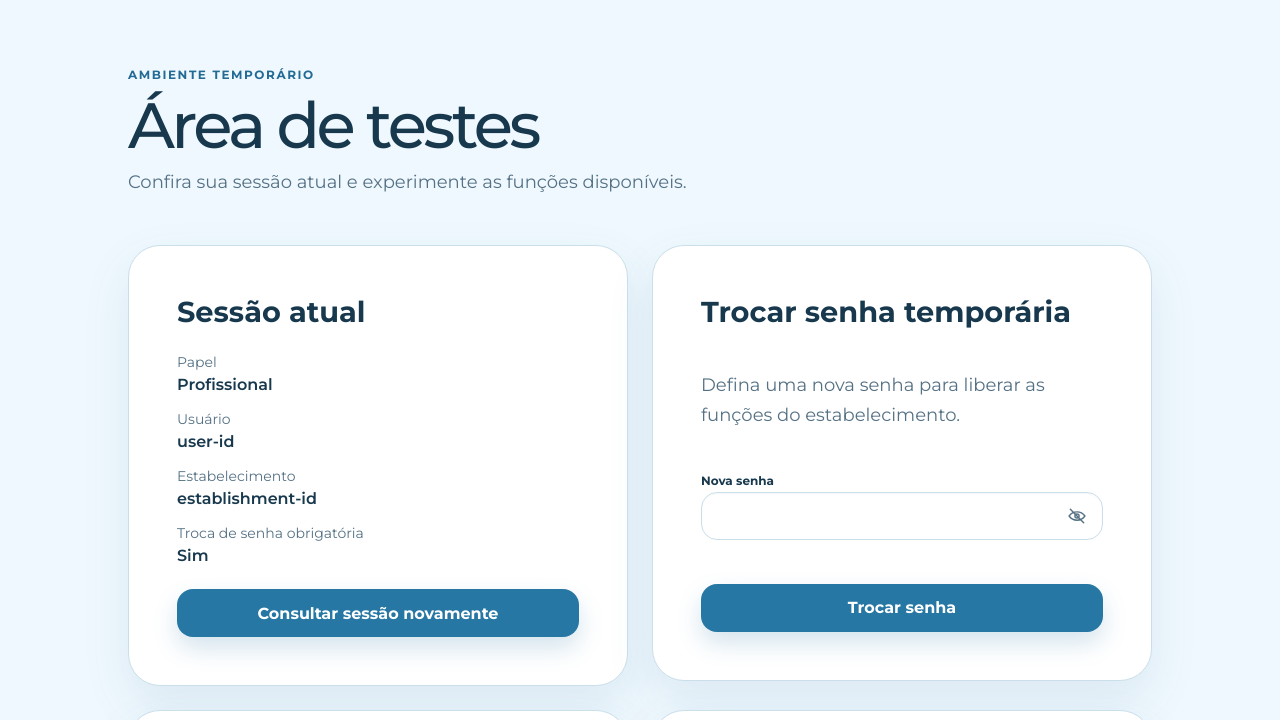
Test case: valida a nova senha curta antes de enviar e foca o campo inválido
Check: the heading "Trocar senha temporária" is shown, box 701,294 -> 1103,330
In the password field labelled "Nova senha": (902, 516) 701,492 -> 1103,540, type "curta"
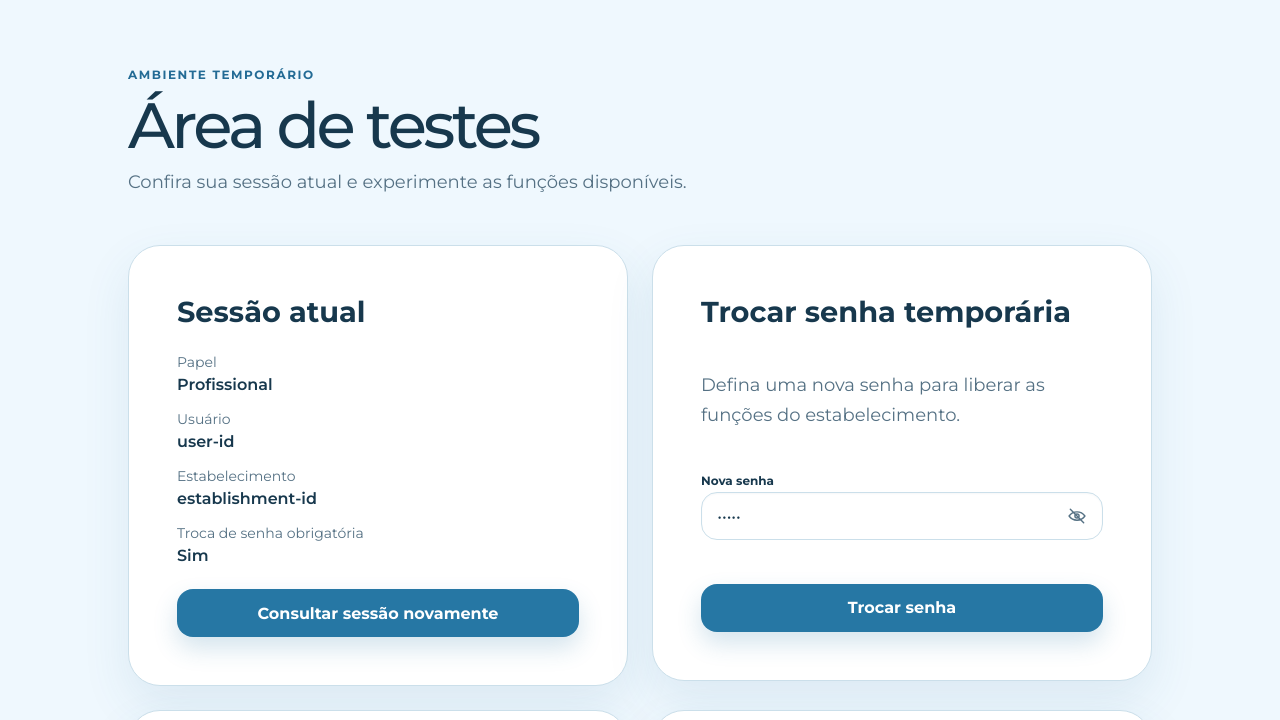
Click the button "Trocar senha": click(902, 608) 701,584 -> 1103,632
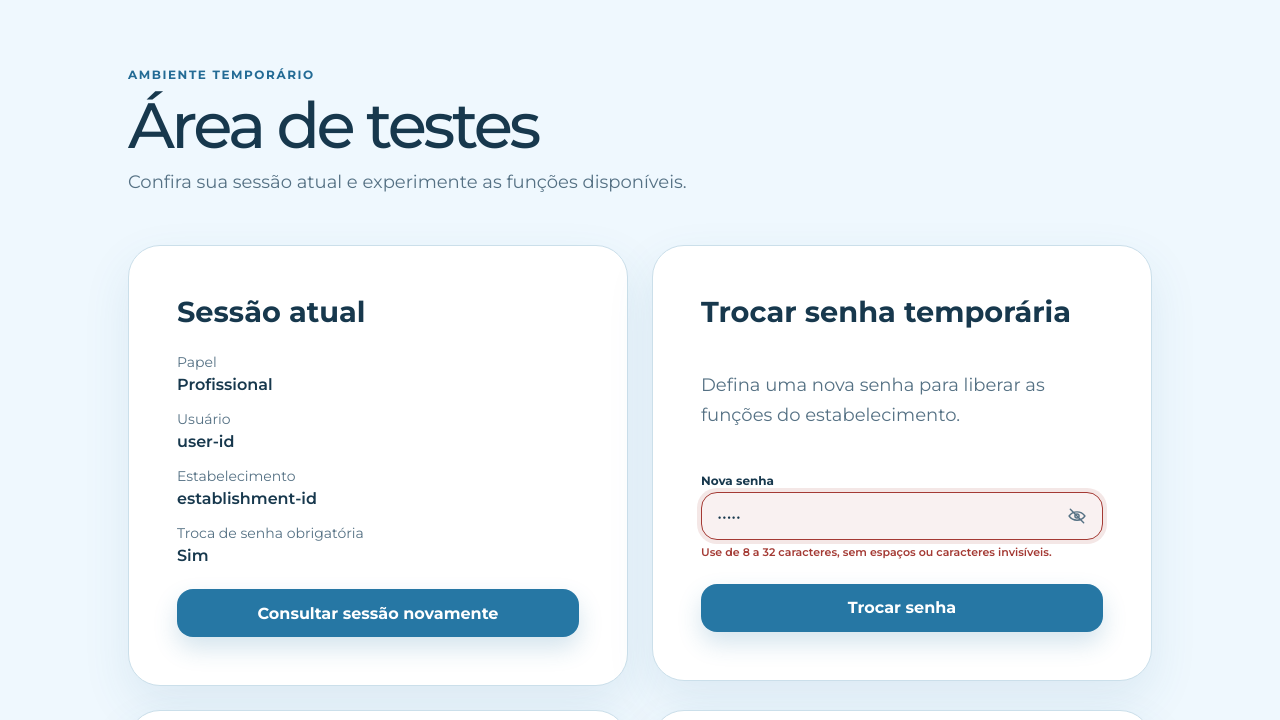
Check: the text "Use de 8 a 32 caracteres, sem espaços ou caracteres invisíveis." is shown, box 701,545 -> 1103,560
